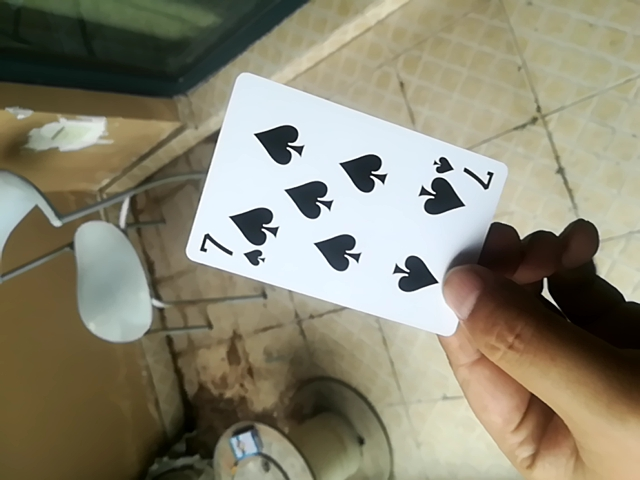ht 7: (180, 70, 517, 343)
